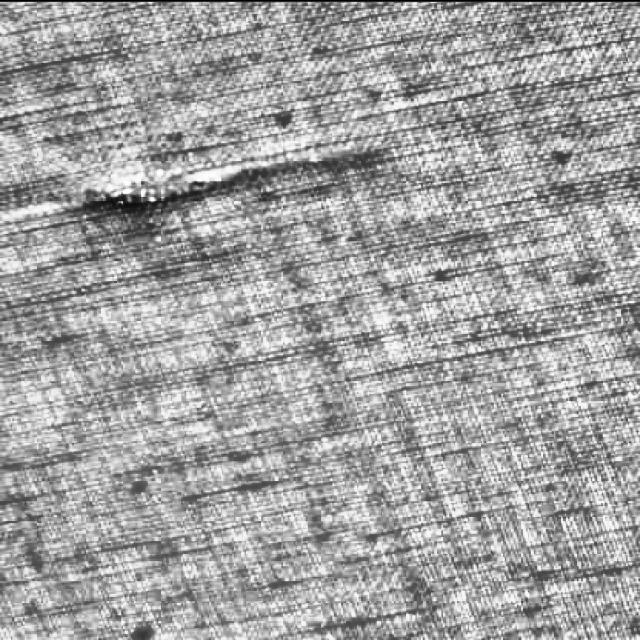thread_error: (4, 128, 403, 228)
